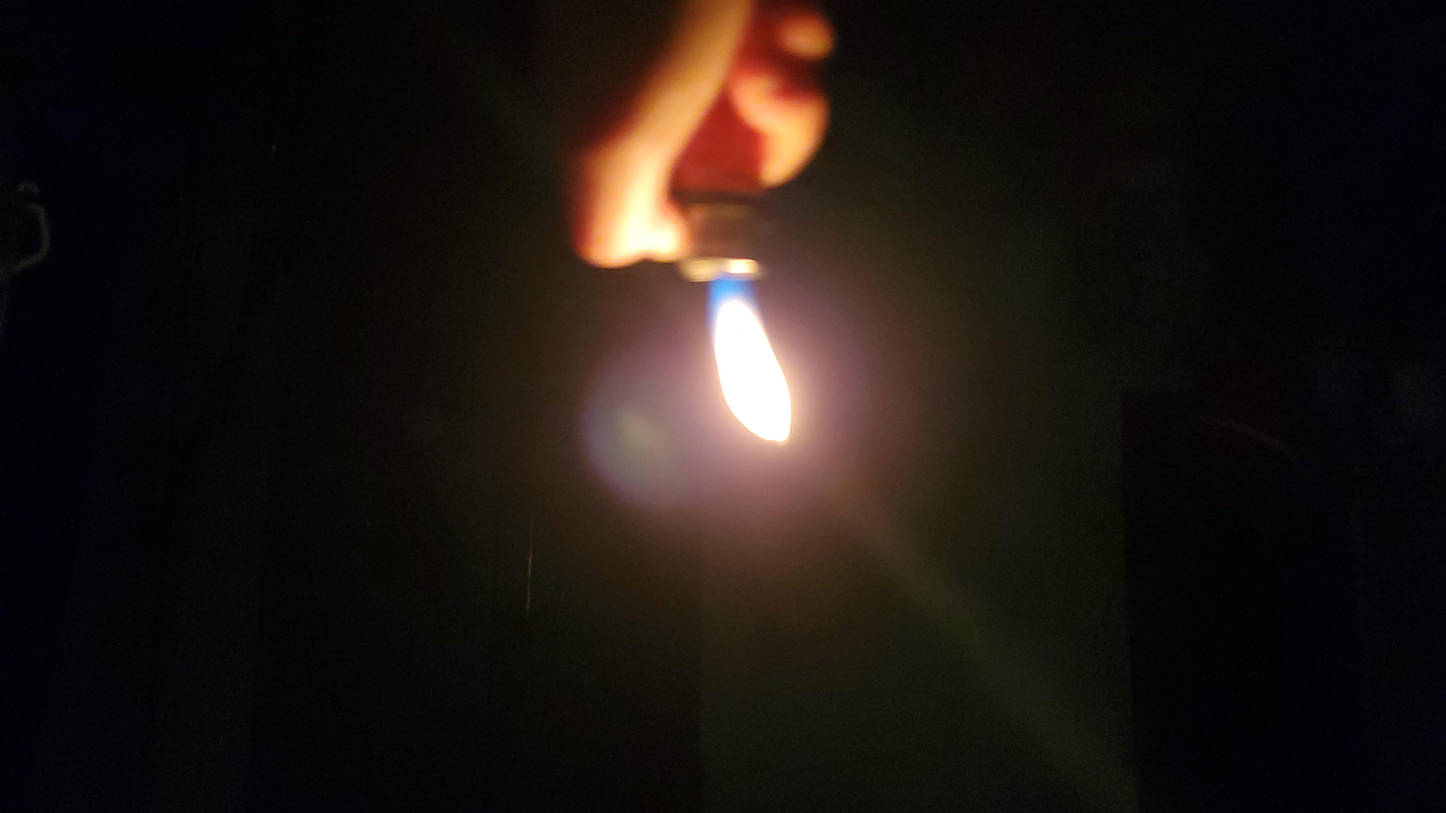fire: (657, 337, 731, 543)
